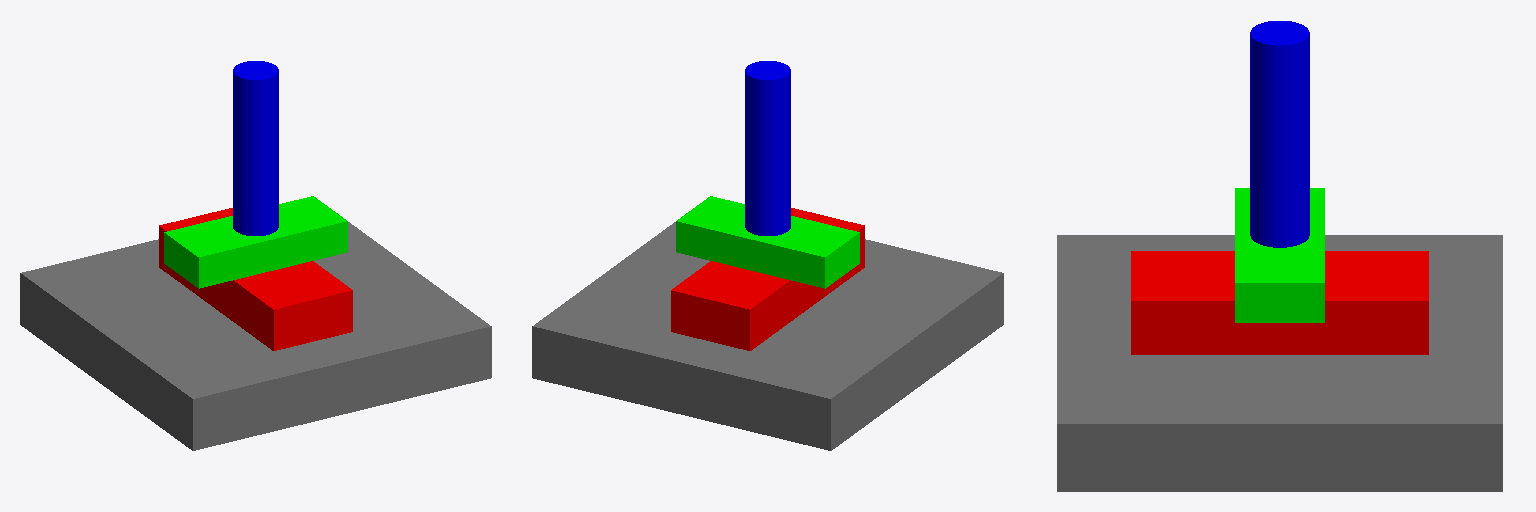
robot.urdf — prismatic_robot:
<?xml version="1.0"?>
<!-- Robot with prismatic joints for testing linear motion -->
<robot name="prismatic_robot">
  <link name="base_link">
    <visual>
      <geometry>
        <box size="0.3 0.3 0.05"/>
      </geometry>
      <material name="gray">
        <color rgba="0.5 0.5 0.5 1"/>
      </material>
    </visual>
    <collision>
      <geometry>
        <box size="0.3 0.3 0.05"/>
      </geometry>
    </collision>
    <inertial>
      <mass value="5.0"/>
      <inertia ixx="0.04" ixy="0" ixz="0" iyy="0.04" iyz="0" izz="0.075"/>
    </inertial>
  </link>

  <link name="x_slide">
    <visual>
      <geometry>
        <box size="0.08 0.2 0.04"/>
      </geometry>
      <material name="red">
        <color rgba="1 0 0 1"/>
      </material>
    </visual>
    <inertial>
      <mass value="1.0"/>
      <inertia ixx="0.003" ixy="0" ixz="0" iyy="0.001" iyz="0" izz="0.003"/>
    </inertial>
  </link>

  <link name="y_slide">
    <visual>
      <geometry>
        <box size="0.15 0.06 0.03"/>
      </geometry>
      <material name="green">
        <color rgba="0 1 0 1"/>
      </material>
    </visual>
    <inertial>
      <mass value="0.5"/>
      <inertia ixx="0.0005" ixy="0" ixz="0" iyy="0.001" iyz="0" izz="0.001"/>
    </inertial>
  </link>

  <link name="z_slide">
    <visual>
      <geometry>
        <cylinder radius="0.02" length="0.15"/>
      </geometry>
      <origin xyz="0 0 0.075" rpy="0 0 0"/>
      <material name="blue">
        <color rgba="0 0 1 1"/>
      </material>
    </visual>
    <inertial>
      <mass value="0.3"/>
      <origin xyz="0 0 0.075" rpy="0 0 0"/>
      <inertia ixx="0.0006" ixy="0" ixz="0" iyy="0.0006" iyz="0" izz="0.0001"/>
    </inertial>
  </link>

  <joint name="x_joint" type="prismatic">
    <parent link="base_link"/>
    <child link="x_slide"/>
    <origin xyz="0 0 0.045" rpy="0 0 0"/>
    <axis xyz="1 0 0"/>
    <limit lower="-0.1" upper="0.1" effort="100" velocity="0.5"/>
  </joint>

  <joint name="y_joint" type="prismatic">
    <parent link="x_slide"/>
    <child link="y_slide"/>
    <origin xyz="0 0 0.035" rpy="0 0 0"/>
    <axis xyz="0 1 0"/>
    <limit lower="-0.08" upper="0.08" effort="50" velocity="0.5"/>
  </joint>

  <joint name="z_joint" type="prismatic">
    <parent link="y_slide"/>
    <child link="z_slide"/>
    <origin xyz="0 0 0.015" rpy="0 0 0"/>
    <axis xyz="0 0 1"/>
    <limit lower="0" upper="0.2" effort="30" velocity="0.3"/>
  </joint>
</robot>

--- Render facts (derived) ---
The picture shows the robot from 3 angles, left to right: view 1: azimuth 30°, elevation 25°; view 2: azimuth 150°, elevation 25°; view 3: azimuth 270°, elevation 25°; orthographic projection.
Robot: prismatic_robot — 4 links, 3 joints (3 prismatic); root link base_link; default pose: every joint at zero.
Links seen in each view (by area): view 1: base_link, x_slide, y_slide, z_slide; view 2: base_link, x_slide, y_slide, z_slide; view 3: base_link, x_slide, z_slide, y_slide.
Link boxes in pixels (x1,y1,x2,y2): base_link: (20, 222, 491, 450); x_slide: (159, 208, 352, 350); y_slide: (164, 196, 347, 288); z_slide: (233, 61, 278, 235); base_link: (532, 222, 1003, 450); x_slide: (671, 208, 864, 350); y_slide: (676, 196, 859, 288); z_slide: (745, 61, 790, 235); base_link: (1057, 235, 1502, 491); x_slide: (1131, 251, 1428, 354); z_slide: (1250, 21, 1309, 247); y_slide: (1235, 188, 1324, 322).
Bounding box of the posed robot: 0.3 × 0.3 × 0.27 m (x, y, z).
Geometry: primitives only (box / cylinder / sphere), no mesh files.